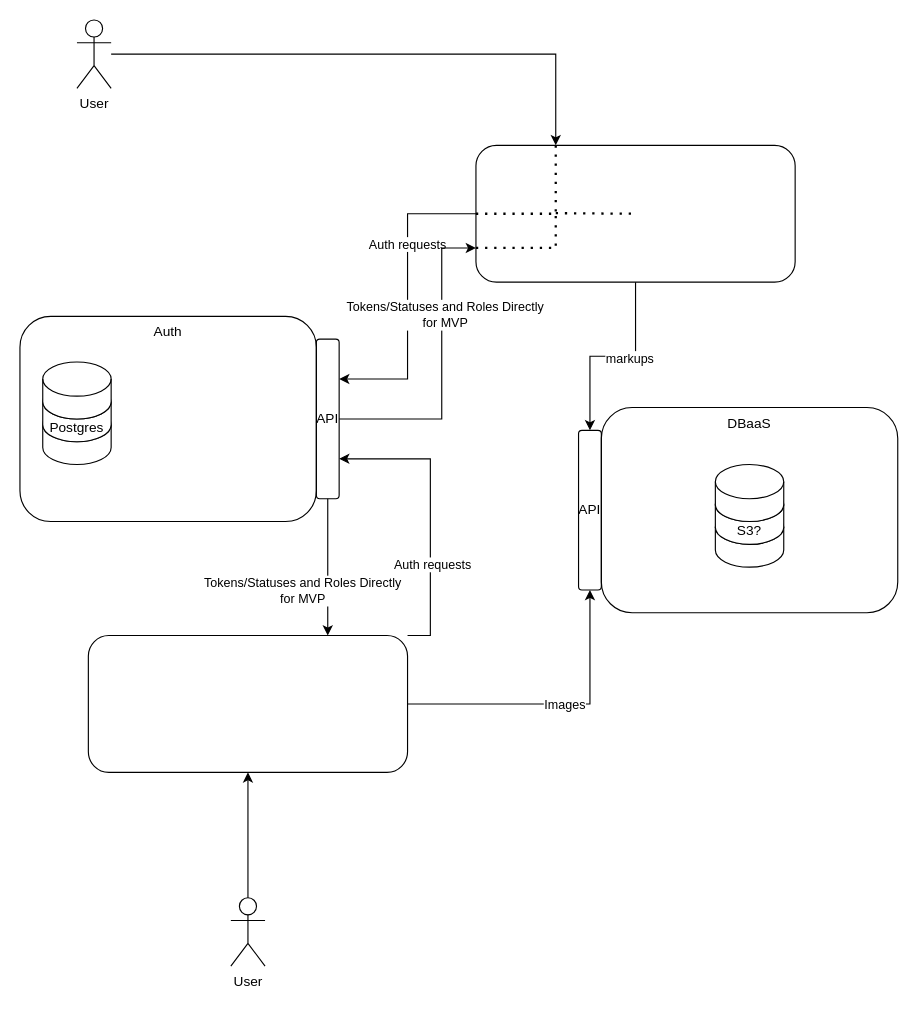
This 918x1010 diagram has some shape labels left out. The shapes that lost their labels are listed below. From the top down, each one's centre as x and y in pixels, then its label:
At pixel 635 213: "Bot".
At pixel 247 703: "Admin Panel".
